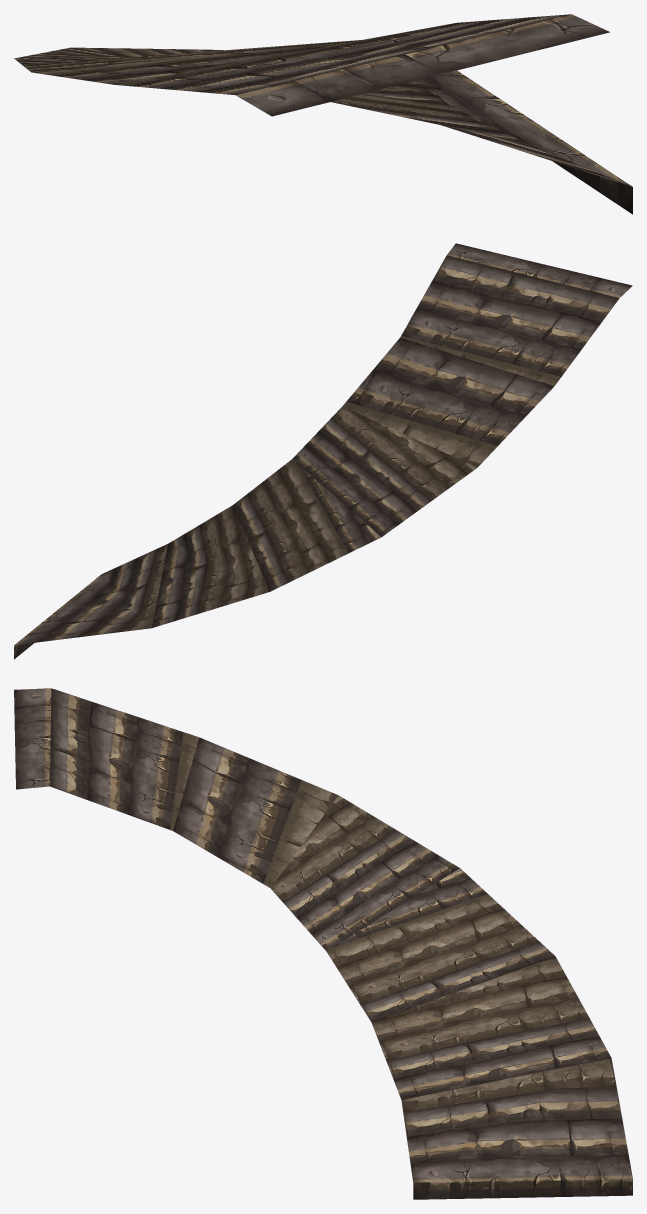
The model's file is stair_R_col.FBX.
3 views of the same model, one above another, from view 1: azimuth 30°, elevation 25°; view 2: azimuth 150°, elevation 25°; view 3: azimuth 270°, elevation 25° (orthographic). The views are drawn at different scales.
Visible parts, largest first — view 1: stair_R_col; view 2: stair_R_col; view 3: stair_R_col.
Boxes of the visible parts, x1,y1,x2,y2 form: stair_R_col: [14, 14, 632, 214]; stair_R_col: [14, 243, 632, 659]; stair_R_col: [14, 688, 632, 1199].
Bounding box in the file's own units: 9.99 × 6.97 × 12.76.
1 material, 1 textured.
